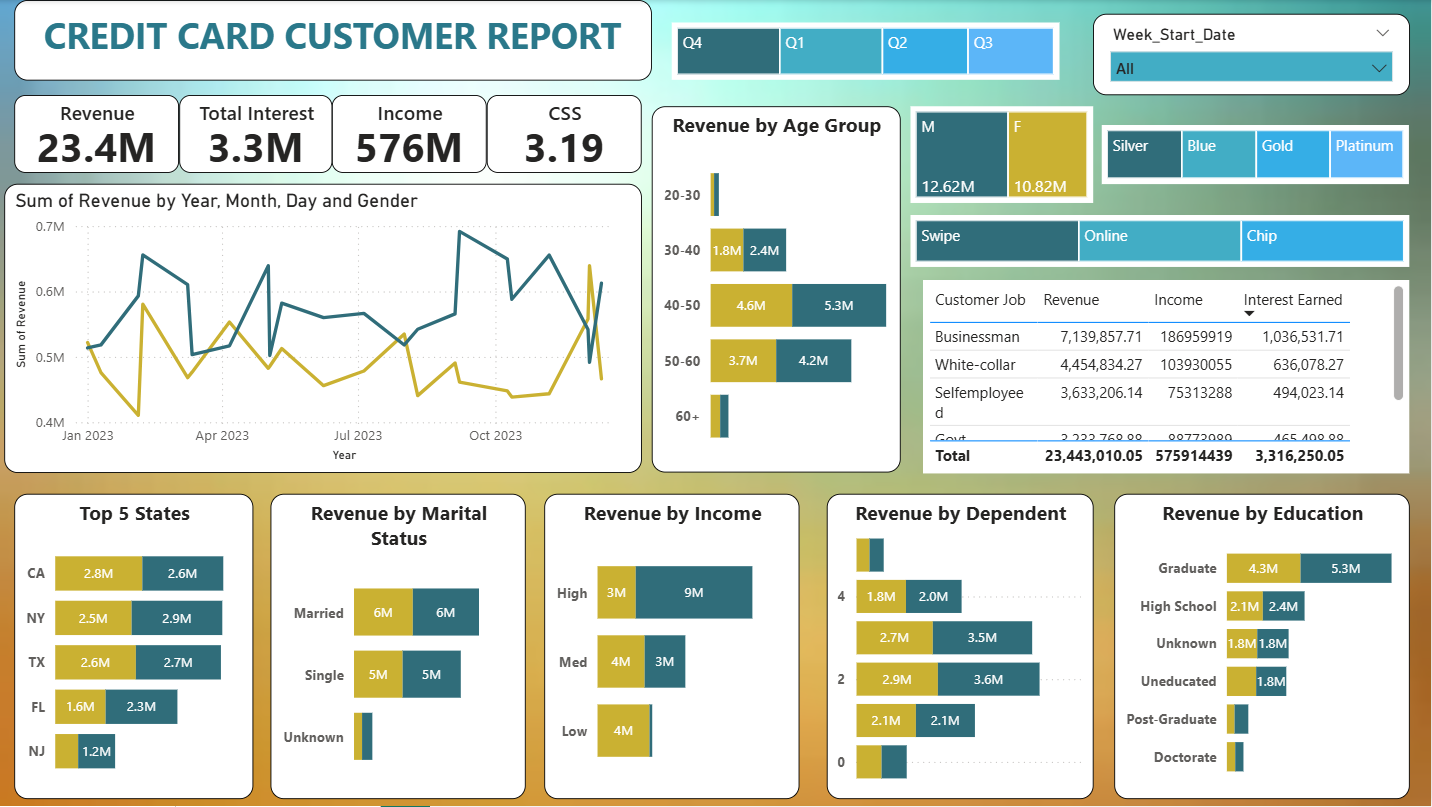

What the dashboard file says about the page in this screenshot:
{"tool":"powerbi","page":{"name":"Credit Card customer","canvas":[1280,720],"ordinal":0},"visuals":[{"type":"textbox","box":[14.4,0,569.3,71.9],"z":0},{"type":"tableEx","fields":{"Values":["public cus_detail.Customer_Job","Sum(public cc_detail.Revenue)","Sum(public cus_detail.Income)","Sum(public cc_detail.Interest_Earned)"]},"box":[826.7,249.6,434.3,173.1],"z":1000},{"type":"card","title":" Revenue","fields":{"Values":["Sum(public cc_detail.Revenue)"]},"box":[14.4,85.1,147.2,69.3],"z":2000},{"type":"card","title":"Income","fields":{"Values":["Sum(public cus_detail.Income)"]},"box":[298.7,85.1,138.5,69.3],"z":3000},{"type":"card","title":"Total Interest","fields":{"Values":["Sum(public cc_detail.Interest_Earned)"]},"box":[161.6,85.1,137.1,69.3],"z":4000},{"type":"card","title":"CSS","fields":{"Values":["Avg(public cus_detail.Cust_Satisfaction_Score)"]},"box":[437.2,85.1,138.5,69.3],"z":5000},{"type":"slicer","fields":{"Values":["public cc_detail.Week_Start_Date"]},"box":[978,12,282.8,73.1],"z":6000},{"type":"treemap","fields":{"Group":["public cc_detail.Qtr"],"Values":["CountNonNull(public cc_detail.Client_Num)"]},"box":[601.6,20.4,346.4,51.5],"z":7000},{"type":"barChart","title":" Revenue by Income","fields":{"Y":["Sum(public cc_detail.Revenue)"],"Category":["public cus_detail.IncomeGroup"],"Series":["public cus_detail.Gender"]},"box":[487.7,441.5,228,272.7],"z":8000},{"type":"treemap","fields":{"Group":["public cus_detail.Gender"],"Values":["Sum(public cc_detail.Revenue)"]},"box":[815.2,95.2,163,86.6],"z":9000},{"type":"lineChart","fields":{"Y":["Sum(public cc_detail.Revenue)"],"Series":["public cus_detail.Gender"],"Category":["public cc_detail.Week_Start_Date.Variation.Date Hierarchy.Year","public cc_detail.Week_Start_Date.Variation.Date Hierarchy.Month","public cc_detail.Week_Start_Date.Variation.Date Hierarchy.Day"]},"box":[5.8,164.5,569.9,258.3],"z":10000},{"type":"barChart","title":" Revenue by Age Group","fields":{"Y":["Sum(public cc_detail.Revenue)"],"Category":["public cus_detail.AgeGroup"],"Series":["public cus_detail.Gender"]},"box":[584.3,95.2,222.2,327.5],"z":11000},{"type":"barChart","title":" Revenue by Dependent ","fields":{"Y":["Sum(public cc_detail.Revenue)"],"Category":["public cus_detail.Dependent_Count"],"Series":["public cus_detail.Gender"]},"box":[740.1,441.5,238.1,272.7],"z":12000},{"type":"barChart","title":" Revenue by Education","fields":{"Y":["Sum(public cc_detail.Revenue)"],"Category":["public cus_detail.Education_Level"],"Series":["public cus_detail.Gender"]},"box":[996.9,441.5,264,272.7],"z":13000},{"type":"barChart","title":" Top 5 States","fields":{"Y":["Sum(public cc_detail.Revenue)"],"Category":["public cus_detail.state_cd"],"Series":["public cus_detail.Gender"]},"box":[14.4,441.5,213.5,272.7],"z":14000},{"type":"barChart","title":" Revenue by Marital Status","fields":{"Y":["Sum(public cc_detail.Revenue)"],"Category":["public cus_detail.Marital_Status"],"Series":["public cus_detail.Gender"]},"box":[243.8,441.5,228,272.7],"z":15000},{"type":"treemap","fields":{"Values":["Avg(public cc_detail.Client_Num)"],"Group":["public cc_detail.Card_Category"]},"box":[986.4,111.5,274.5,52.7],"z":16000},{"type":"treemap","fields":{"Values":["Avg(public cc_detail.Client_Num)"],"Group":["public cc_detail.Use Chip"]},"box":[815,191.8,445.8,46.7],"z":17000}]}

Visuals, with their boxes in screenshot pixels (x1, y1, x2, y2), scaled from the page's 1280x720 canvas onto the 1432x807 screenshot:
textbox: [16,0,653,81]
tableEx - public cus_detail.Customer_Job x Sum(public cc_detail.Revenue): [925,280,1411,474]
" Revenue" card: [16,95,181,173]
"Income" card: [334,95,489,173]
"Total Interest" card: [181,95,334,173]
"CSS" card: [489,95,644,173]
slicer - public cc_detail.Week_Start_Date: [1094,13,1411,95]
treemap - public cc_detail.Qtr x CountNonNull(public cc_detail.Client_Num): [673,23,1061,81]
" Revenue by Income" barChart: [546,495,801,800]
treemap - public cus_detail.Gender x Sum(public cc_detail.Revenue): [912,107,1094,204]
lineChart - Sum(public cc_detail.Revenue) x public cus_detail.Gender: [6,184,644,474]
" Revenue by Age Group" barChart: [654,107,902,474]
" Revenue by Dependent " barChart: [828,495,1094,800]
" Revenue by Education" barChart: [1115,495,1411,800]
" Top 5 States" barChart: [16,495,255,800]
" Revenue by Marital Status" barChart: [273,495,528,800]
treemap - Avg(public cc_detail.Client_Num) x public cc_detail.Card_Category: [1104,125,1411,184]
treemap - Avg(public cc_detail.Client_Num) x public cc_detail.Use Chip: [912,215,1411,267]
